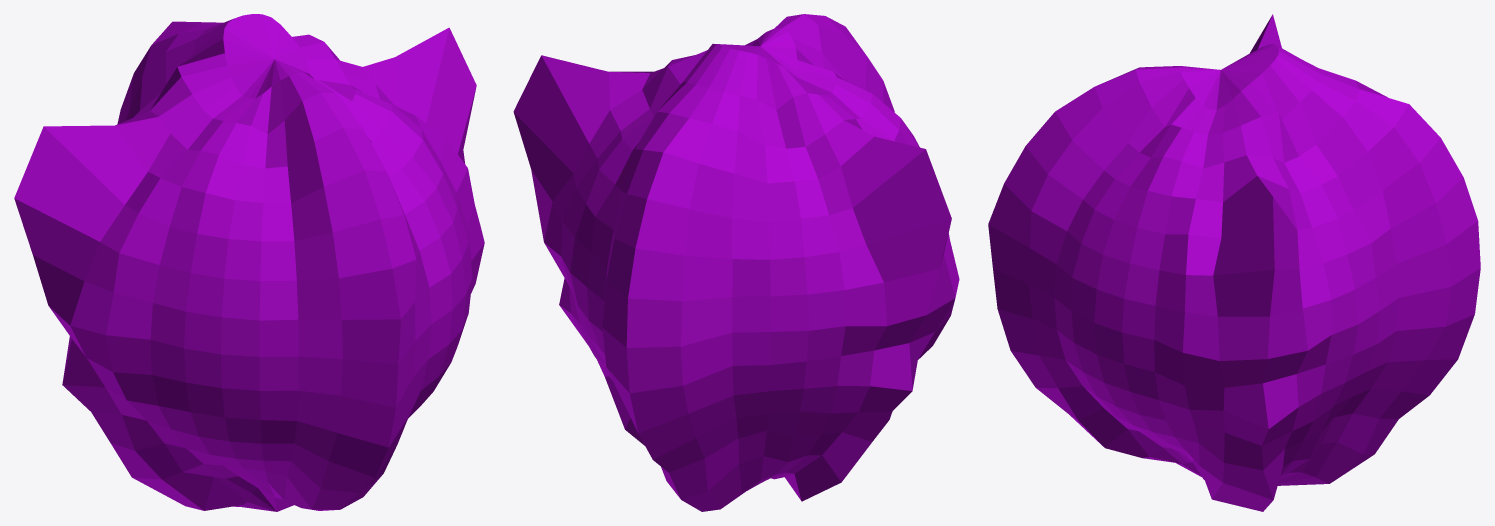
Rendered from rock2.fbx.
3 views of the same model, side by side, from view 1: azimuth 30°, elevation 25°; view 2: azimuth 150°, elevation 25°; view 3: azimuth 270°, elevation 25° (orthographic). The views are drawn at different scales.
Visible parts, largest first — view 1: Sphere; view 2: Sphere; view 3: Sphere.
Boxes of the visible parts, left/top/right/bottom form: Sphere: left=14, top=14, right=484, bottom=511; Sphere: left=513, top=14, right=959, bottom=511; Sphere: left=988, top=14, right=1480, bottom=511.
Size of the model in its own units: 267 by 260 by 267.
